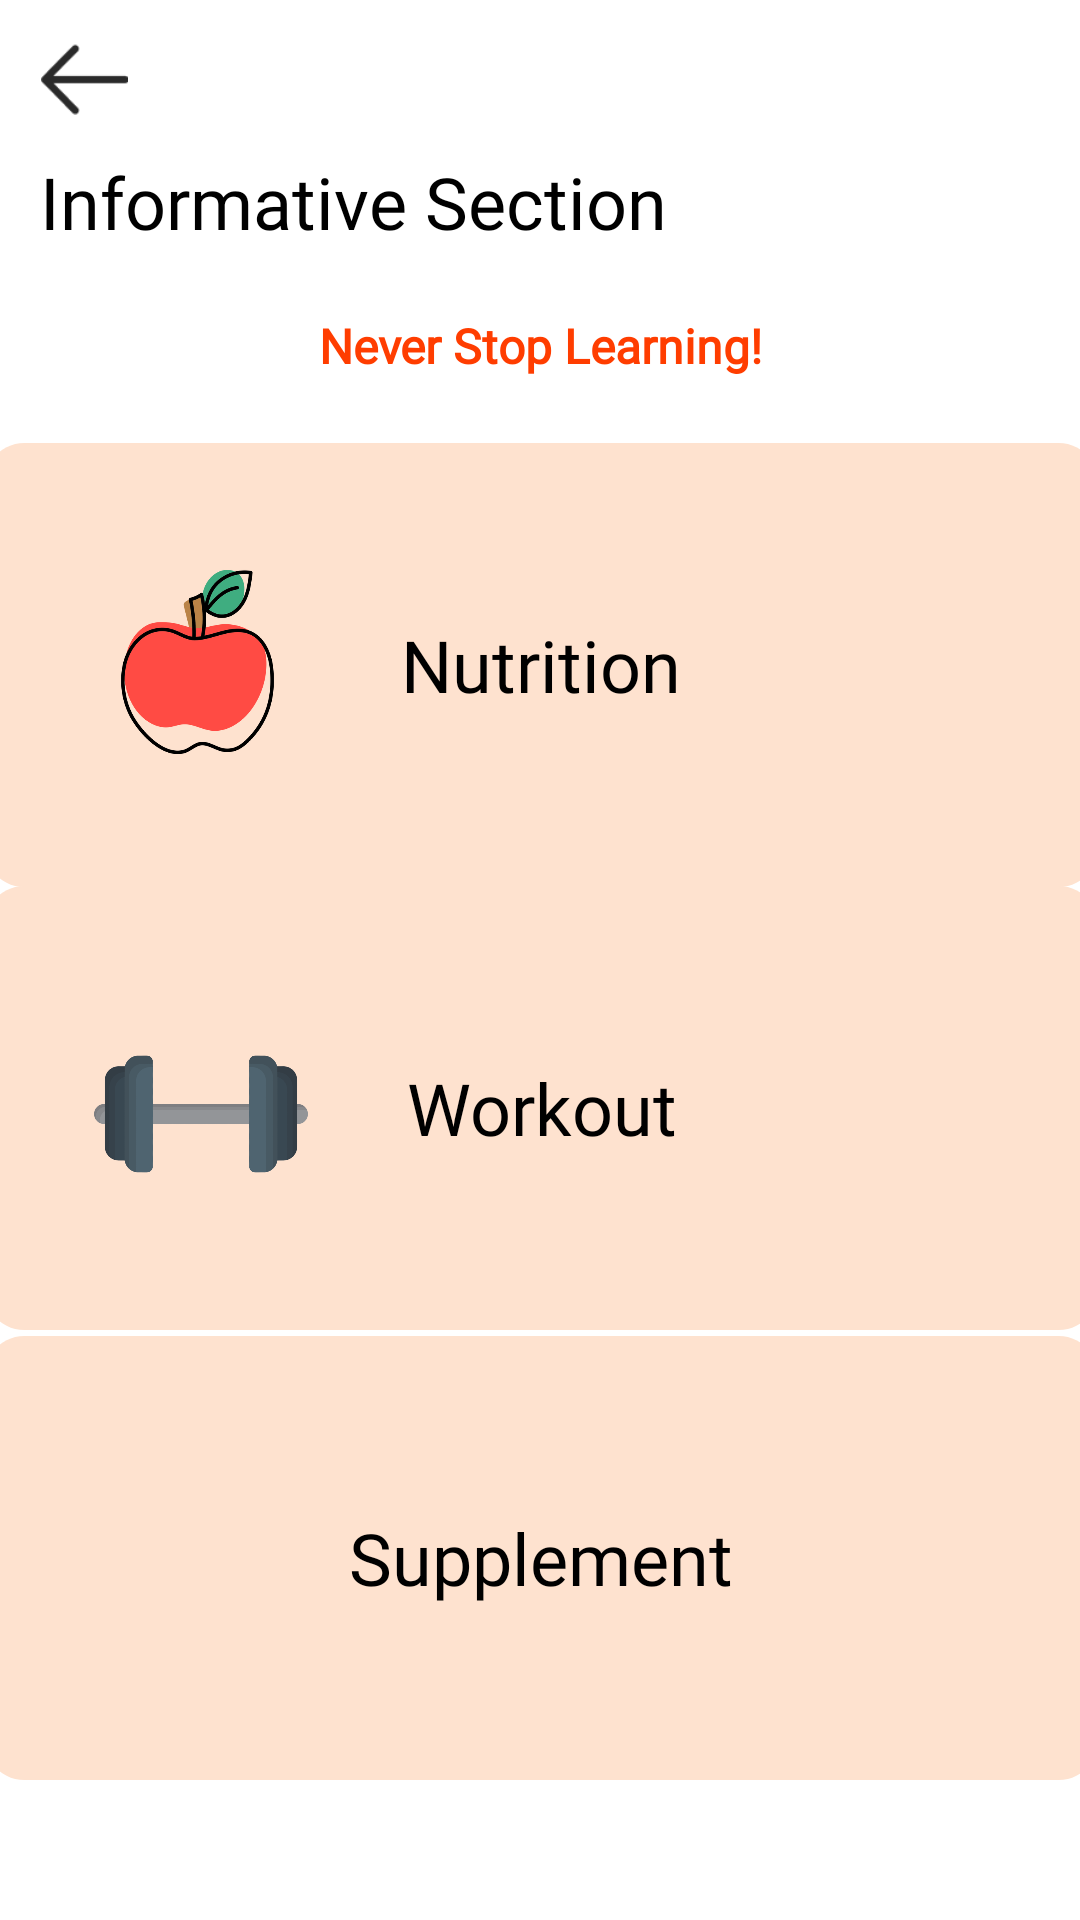

Where icons sit on this 1080×1920 app screen, as [x1,y1,x2,y2]:
apple: [121,570,274,754]
arrow: [41,44,128,115]
